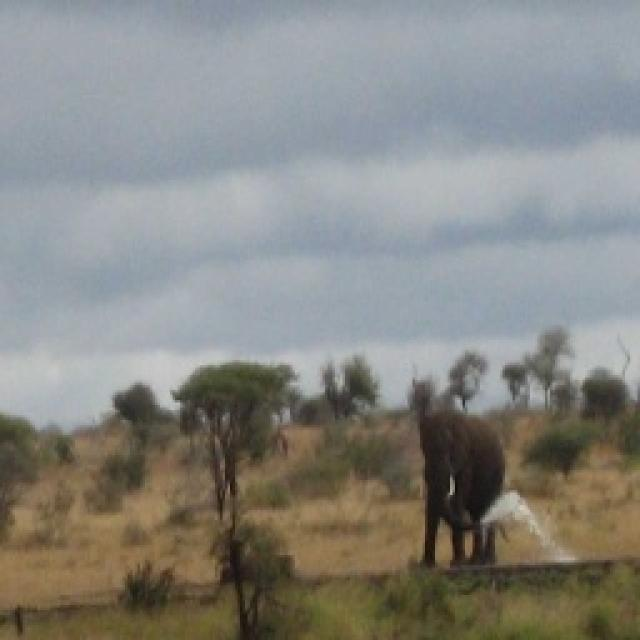not_pig: (407, 378, 505, 568)
